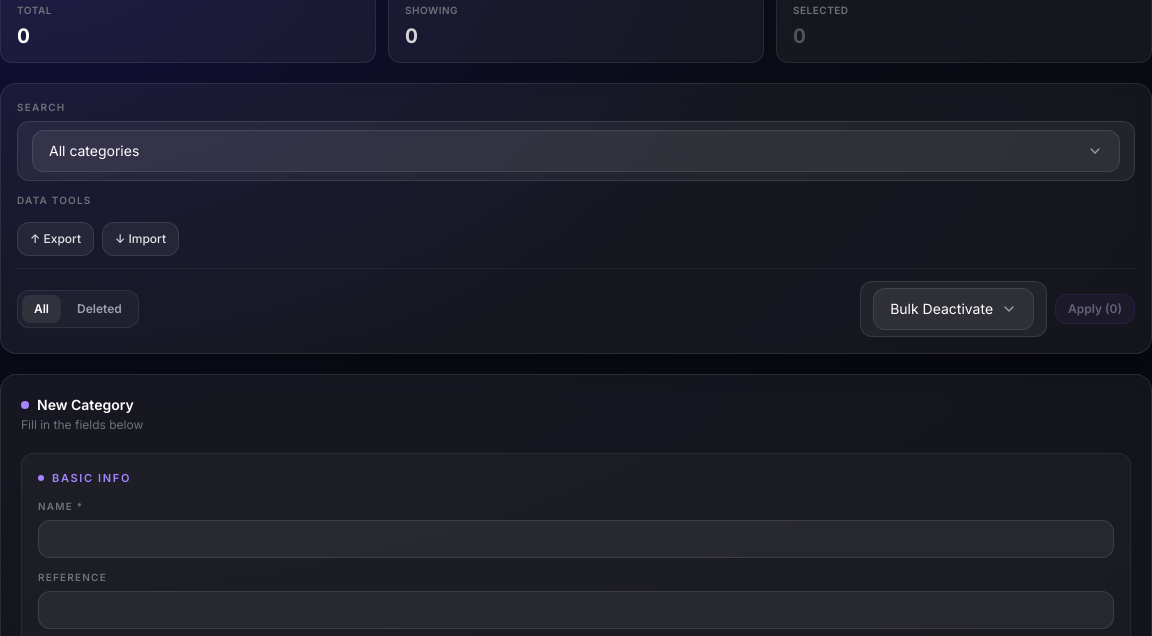
Test case: MenuCategoriesPage — create form › shows success message after successful create
Type "Nigiri" into the field below "Name *".
click(576, 538); type("Nigiri")  # box [38, 520, 1114, 558]
(page scrolled)
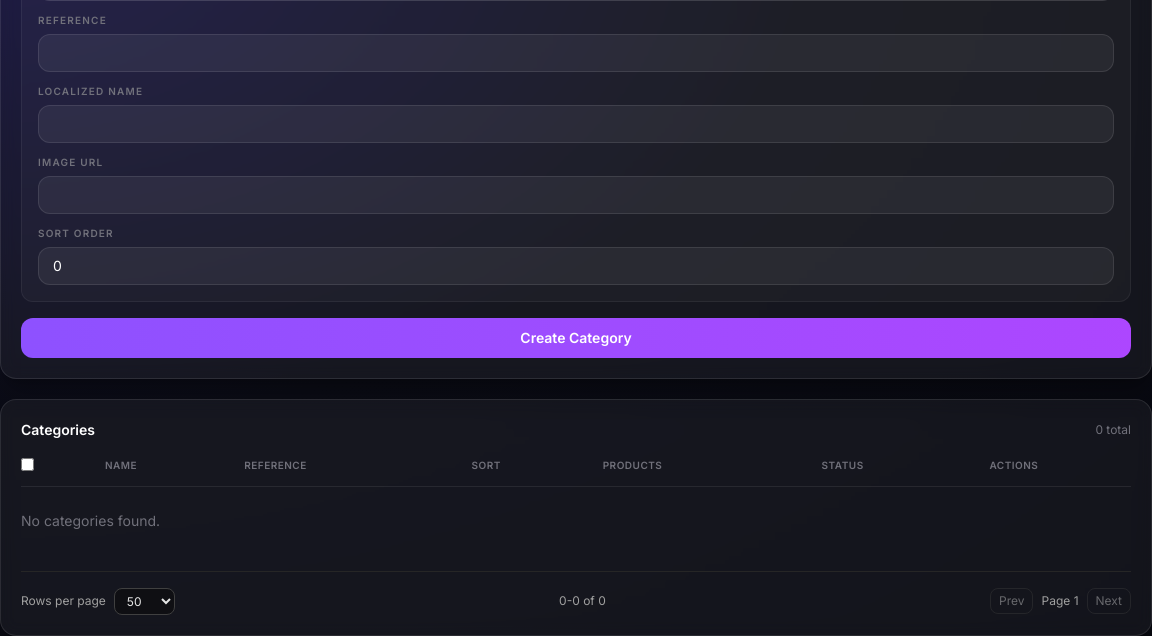
Click the button "Create Category".
click(576, 338)  # box [21, 318, 1131, 358]
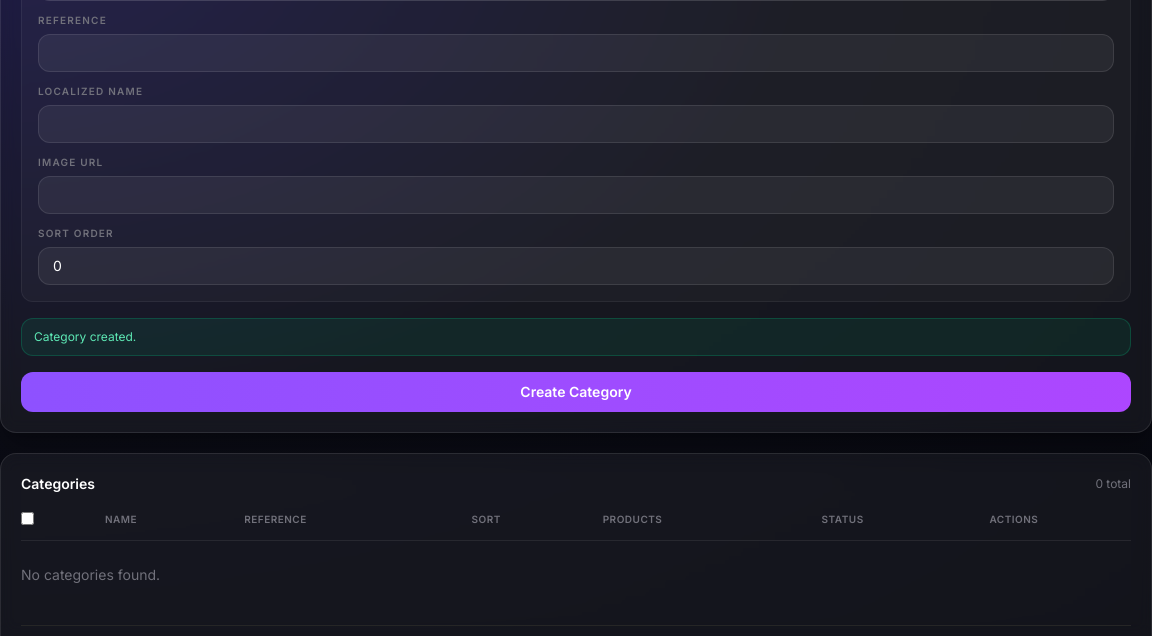
Expected: the text "Category created." is shown, [21, 318, 1131, 356]
